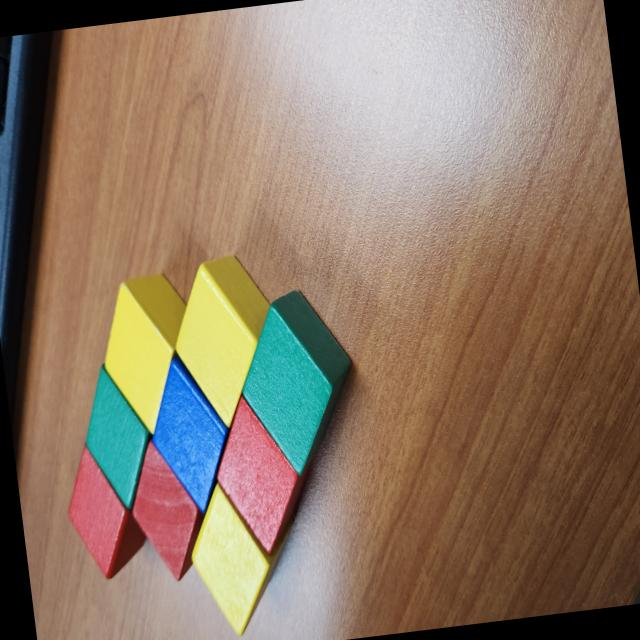blue: (153, 353, 229, 514)
green: (228, 285, 364, 486), (75, 358, 162, 514)
red: (58, 435, 154, 584), (217, 397, 307, 553), (132, 439, 203, 580)
yellow: (174, 255, 271, 428), (191, 485, 286, 636), (103, 274, 187, 437)
